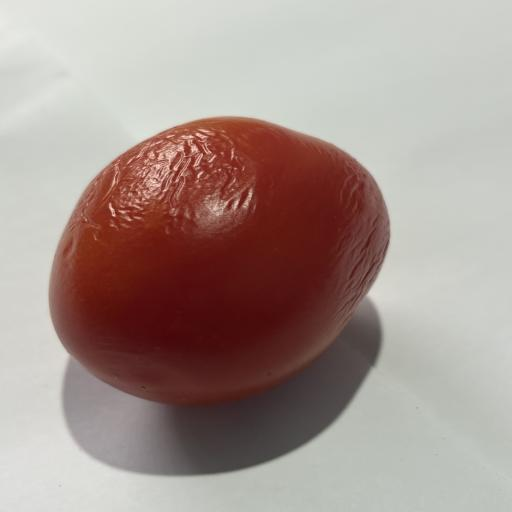spoiled: (49, 117, 389, 405)
